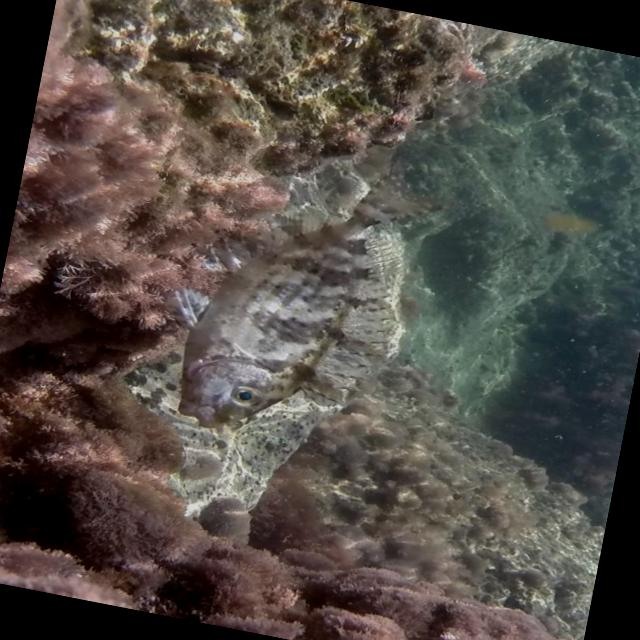Sokar Baligi: (148, 142, 464, 470)
